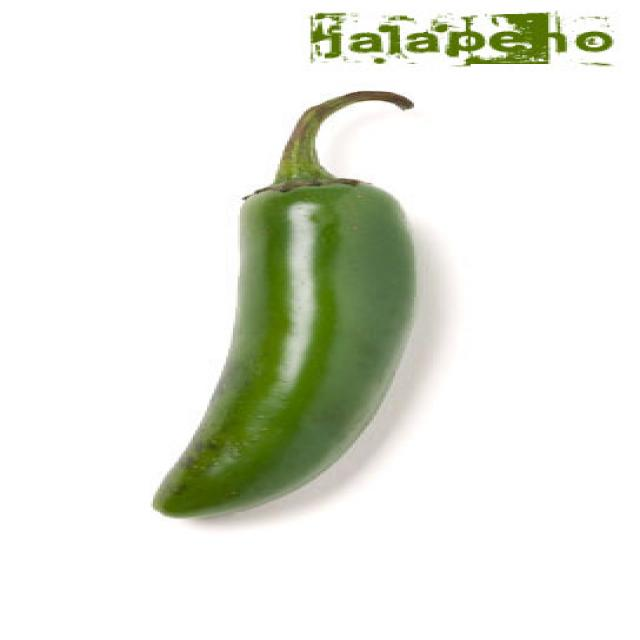aji: (206, 119, 418, 518)
